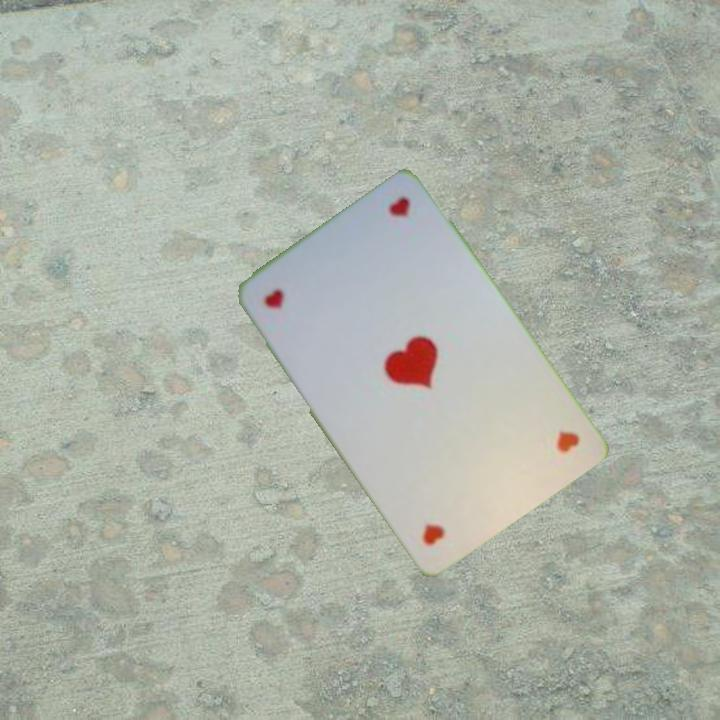h_a.png: (461, 380, 590, 505), (249, 240, 377, 365)
